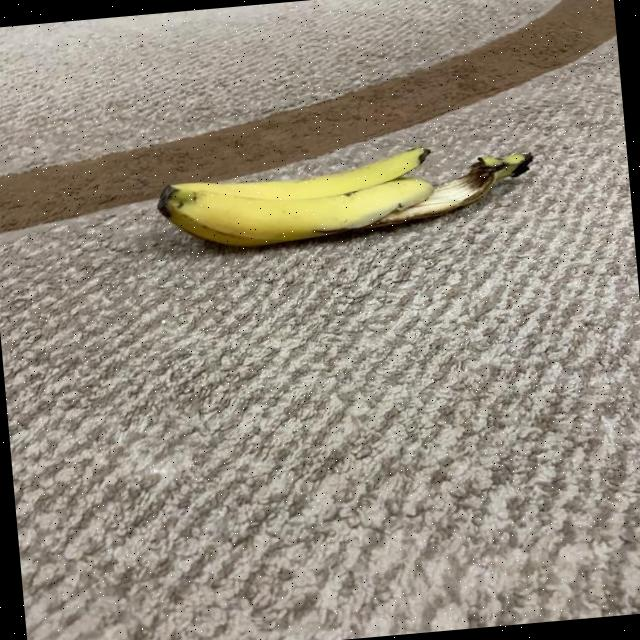banana-peel: (152, 134, 538, 256)
